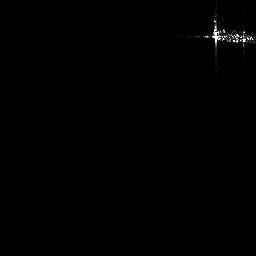ship: (191, 13, 255, 57)
